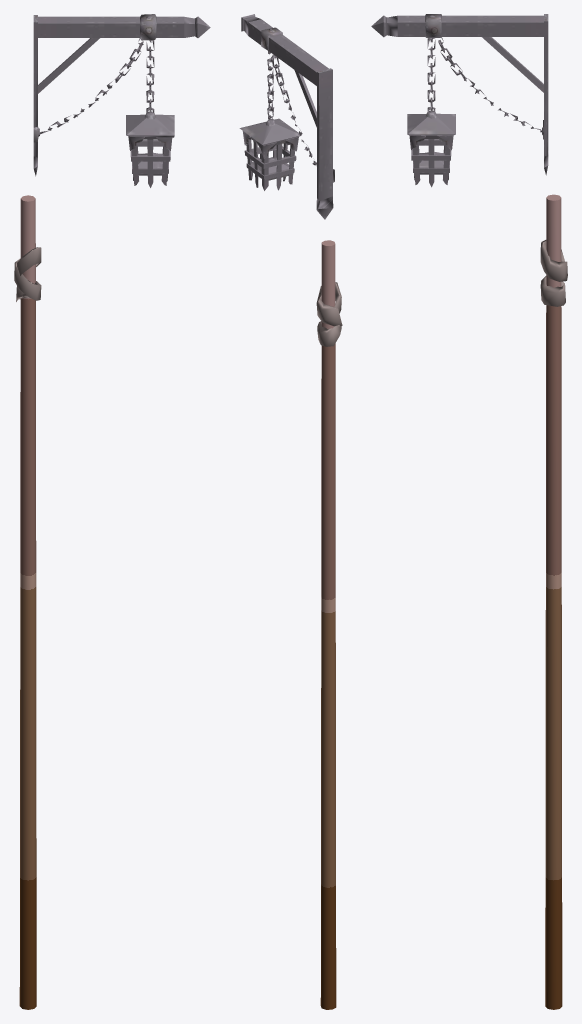
The model's file is QuayLamp.gltf.
The picture shows the model from 3 angles, left to right: view 1: azimuth 90°, elevation 25°; view 2: azimuth 210°, elevation 25°; view 3: azimuth 270°, elevation 25°; orthographic projection. The views are drawn at different scales.
Parts seen in each view (by area): view 1: Environment_Dock_Pole, Lantern_Wall; view 2: Environment_Dock_Pole, Lantern_Wall; view 3: Environment_Dock_Pole, Lantern_Wall.
Boxes of the visible parts, box(x1,y1,x2,y2) form: Environment_Dock_Pole: box(14, 195, 41, 1009); Lantern_Wall: box(33, 14, 210, 187); Environment_Dock_Pole: box(316, 240, 342, 1009); Lantern_Wall: box(239, 14, 334, 219); Environment_Dock_Pole: box(540, 194, 567, 1009); Lantern_Wall: box(371, 14, 548, 187).
Size of the model in its own units: 0.4109 by 9.23 by 1.66.
Materials: 2 (2 with a texture image).
